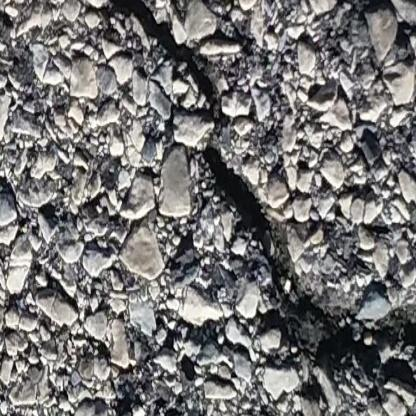Cracks: (95, 0, 416, 399)
